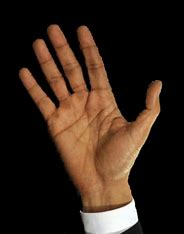palm: (17, 23, 163, 189)
